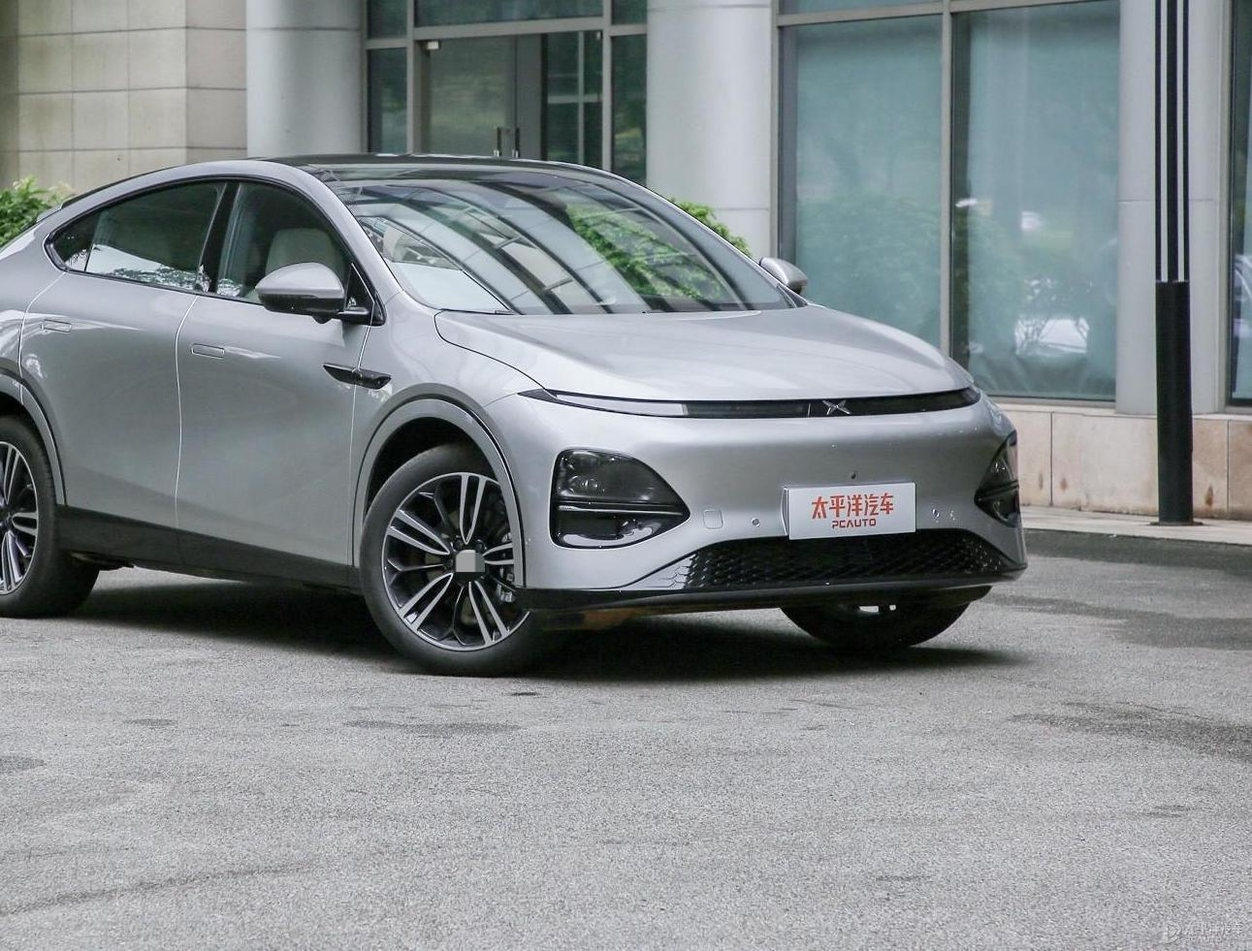XPeng Motors: (822, 401, 851, 414)
